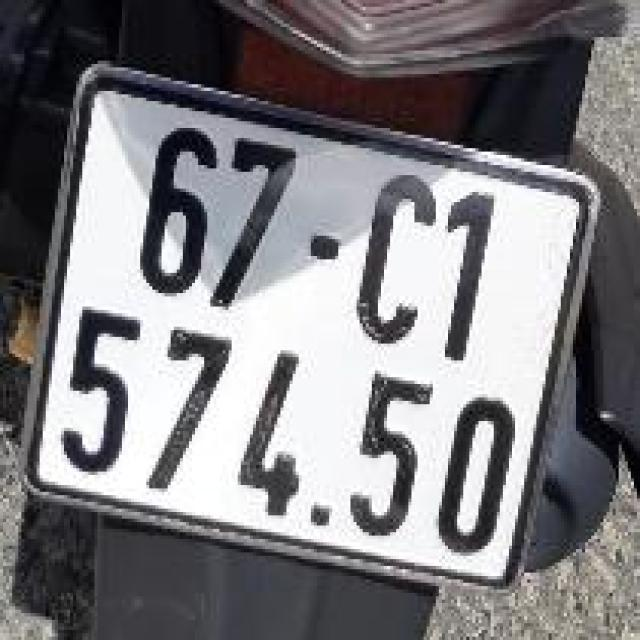0: (426, 384, 526, 568)
1: (422, 180, 502, 373)
4: (228, 334, 323, 526)
5: (336, 362, 442, 552), (48, 295, 150, 492)
6: (125, 118, 226, 315)
7: (201, 129, 305, 324), (136, 315, 237, 508)
C: (341, 163, 447, 361)
